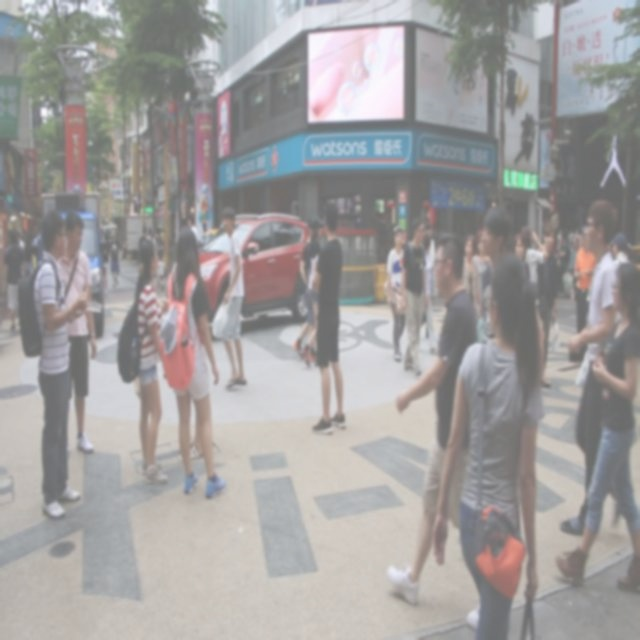pessoa: (429, 245, 541, 639), (387, 231, 481, 634), (554, 260, 640, 596), (558, 197, 618, 539), (156, 223, 228, 502), (32, 208, 90, 522), (56, 209, 98, 459), (134, 237, 170, 488), (310, 202, 348, 434), (172, 238, 210, 462), (209, 205, 248, 394), (296, 214, 332, 368), (478, 202, 516, 346), (400, 216, 430, 383), (521, 226, 549, 390), (290, 216, 318, 364), (536, 218, 560, 372), (386, 225, 407, 364), (573, 224, 597, 336), (348, 192, 392, 250), (6, 218, 45, 282), (420, 230, 439, 358), (2, 228, 25, 332), (556, 225, 586, 300), (472, 229, 493, 319), (462, 235, 482, 328), (606, 228, 632, 298), (220, 224, 273, 258), (141, 221, 166, 288), (512, 230, 532, 288), (108, 227, 121, 290), (98, 231, 110, 296), (198, 181, 211, 231), (424, 222, 436, 270), (187, 214, 199, 250), (157, 253, 166, 283)
